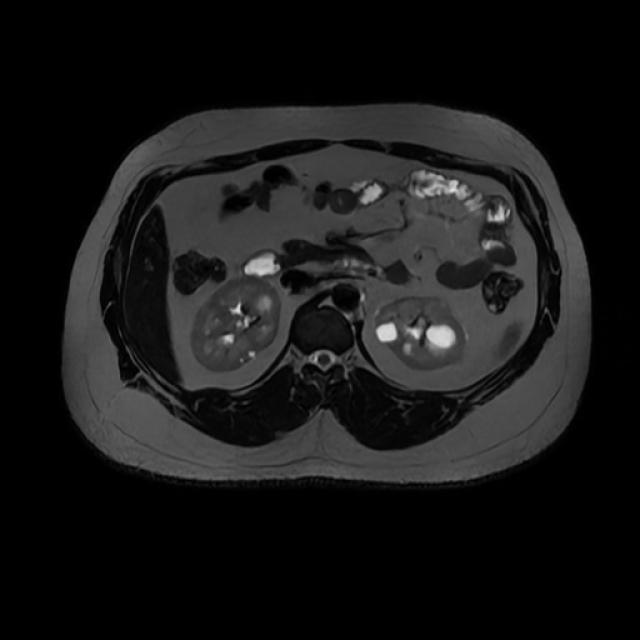sag: (188, 273, 282, 374)
sol: (374, 295, 467, 372)
